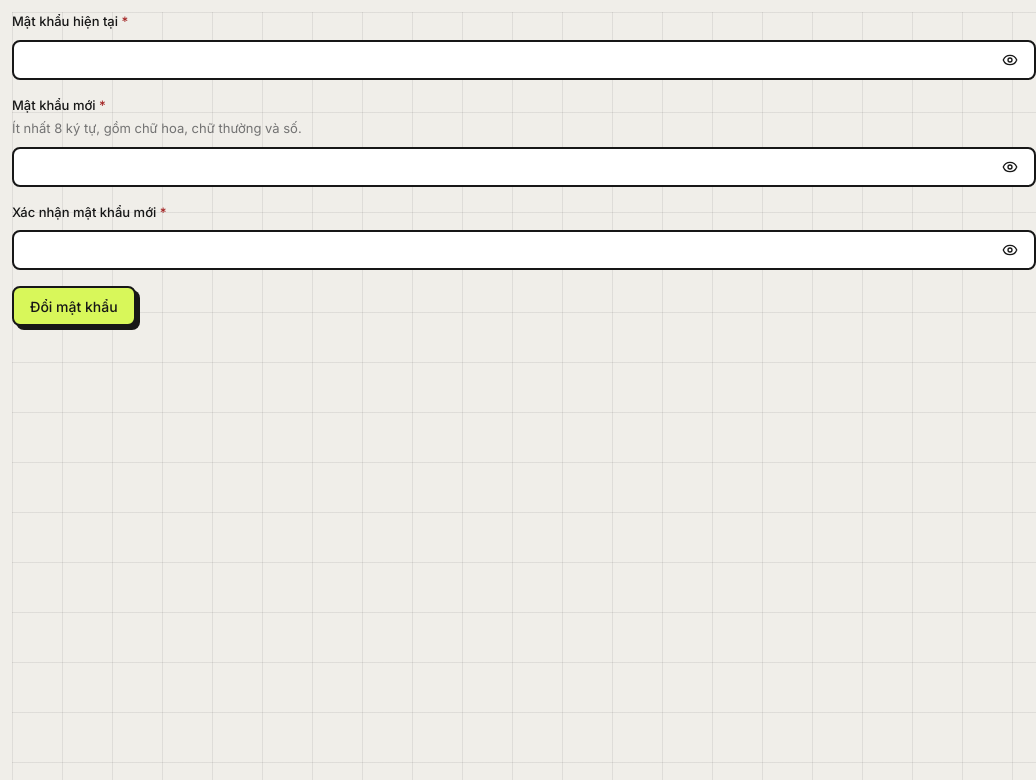
ChangePasswordForm › shows the backend error, e.g. a wrong current password
Type "Wrong1234" into the password field labelled "Mật khẩu hiện tại *". click: point(508, 60)
box: [26,42,990,78]
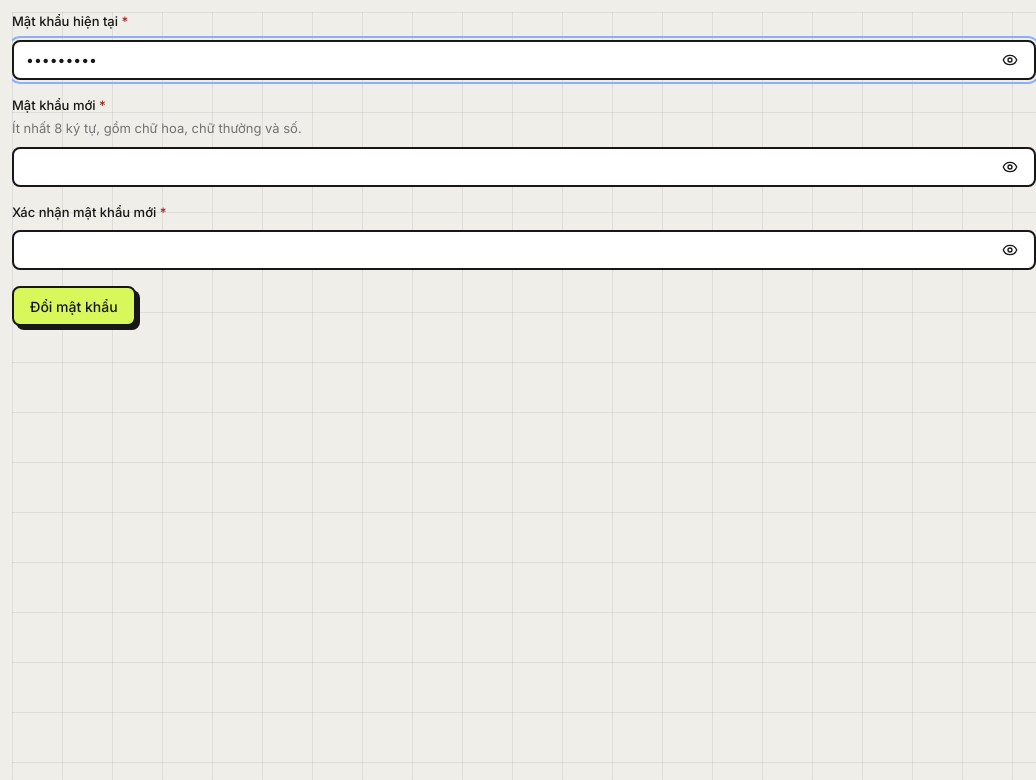
Type "New12345" into the password field labelled "Mật khẩu mới *". click: point(508, 166)
box: [26,148,990,184]
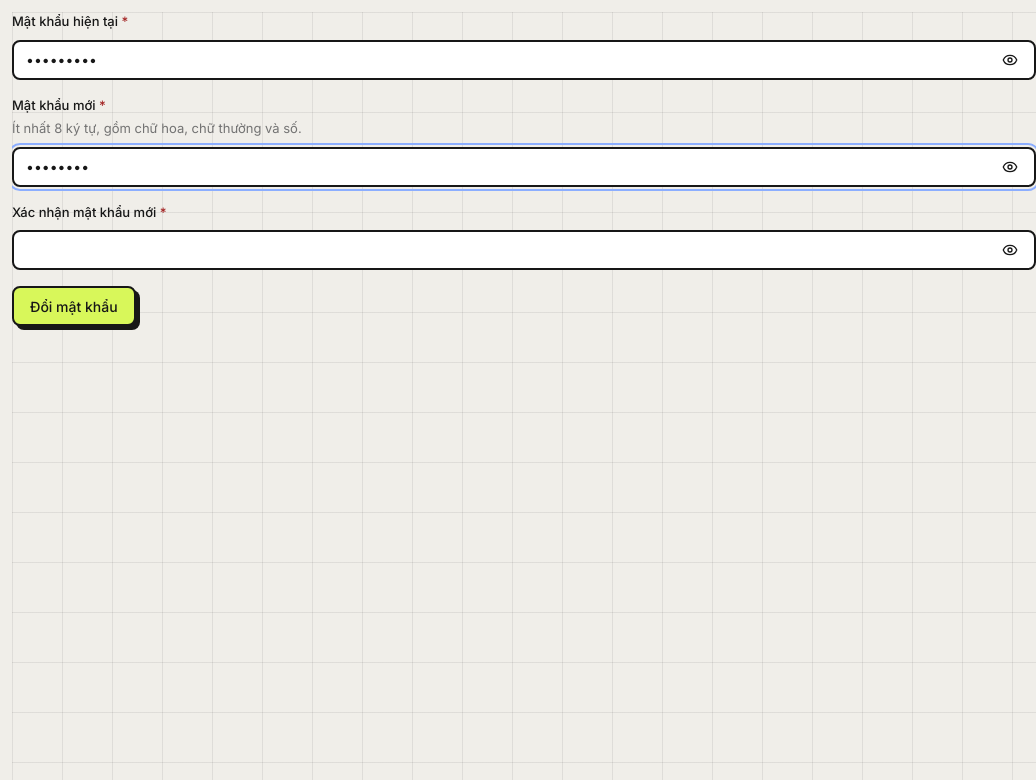
Type "New12345" into the password field labelled "Xác nhận mật khẩu mới *". click: point(508, 250)
box: [26,232,990,268]
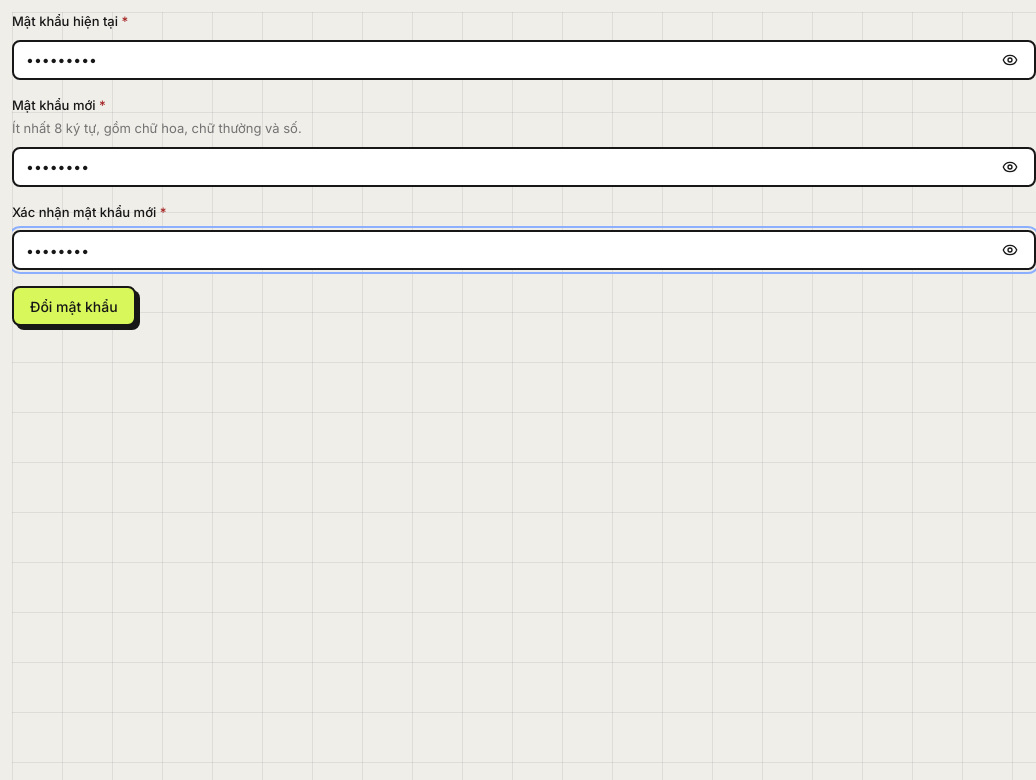
Click the button "Đổi mật khẩu". click: point(74, 306)
box: [12,286,136,326]
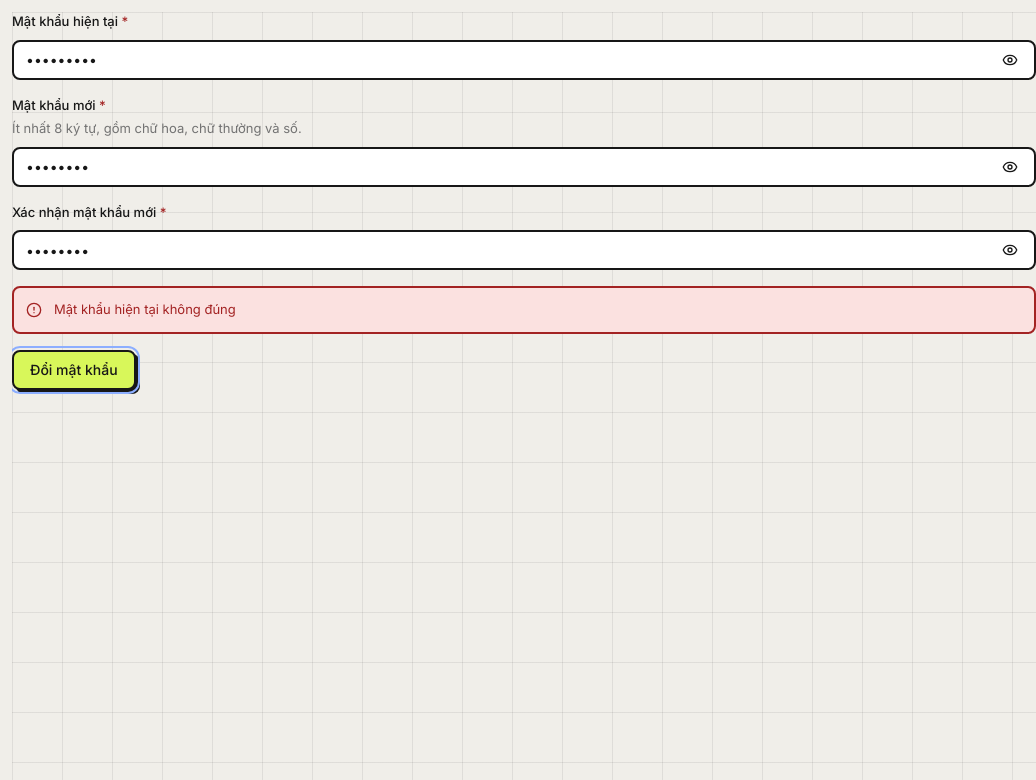
Result: the message reads "Mật khẩu hiện tại không đúng" at [54,301,236,317]
